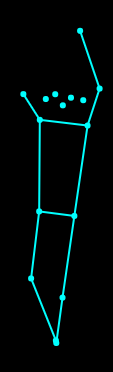tree: (12, 18, 104, 350)
